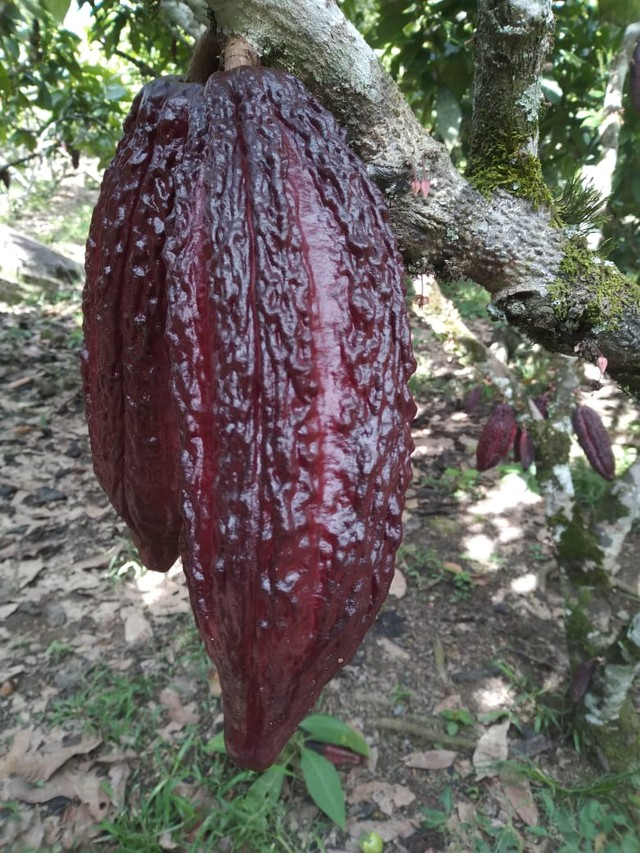Health: (144, 51, 434, 778)
